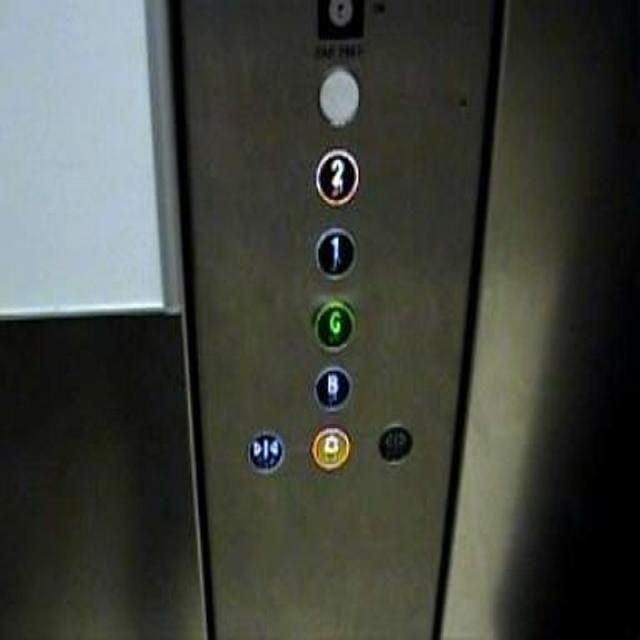1: (311, 224, 358, 280)
2: (312, 145, 360, 208)
B: (310, 361, 355, 415)
G: (310, 297, 358, 356)
alarm: (309, 422, 353, 470)
bt_keyhole: (313, 0, 368, 43)
close: (243, 427, 286, 477)
empty: (315, 66, 361, 130)
open: (374, 419, 414, 464)
